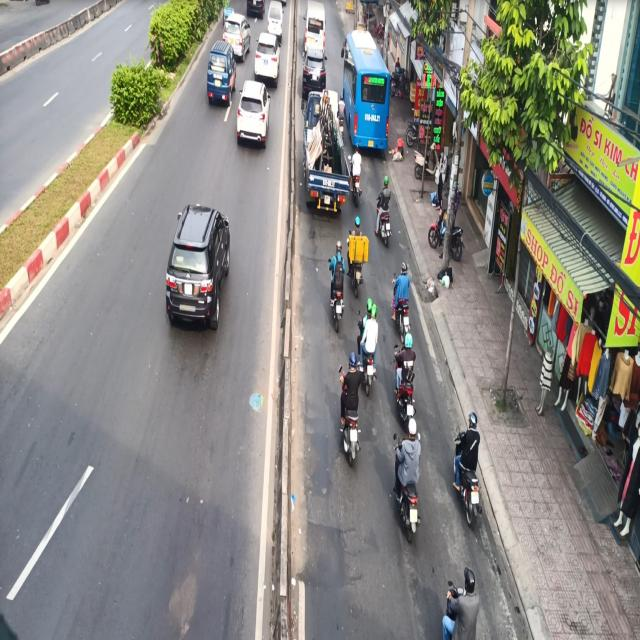bus: (343, 28, 393, 156)
car: (165, 193, 237, 355), (238, 74, 272, 151), (206, 38, 236, 106), (253, 30, 280, 86), (302, 50, 330, 103)
motorbike: (388, 421, 422, 559), (453, 403, 488, 530), (331, 352, 364, 473), (359, 294, 385, 393), (325, 240, 349, 338), (390, 260, 413, 340), (376, 174, 397, 259)
